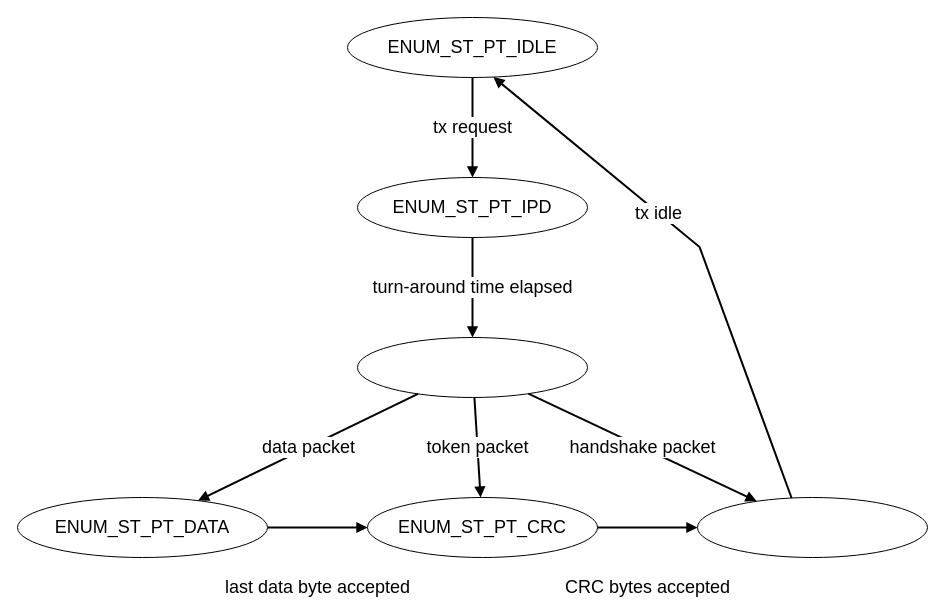
Some shapes in this 945 by 616 pixel diagram are drawn without their labels. Here are the shapes that lost their labels. From the top down, the box of each, then its label:
(356, 336, 588, 398): ENUM_ST_PT_PID
(696, 496, 928, 558): ENUM_ST_PT_END
